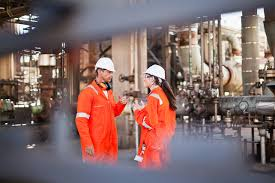helmet: (95, 57, 114, 72), (145, 65, 166, 77)
